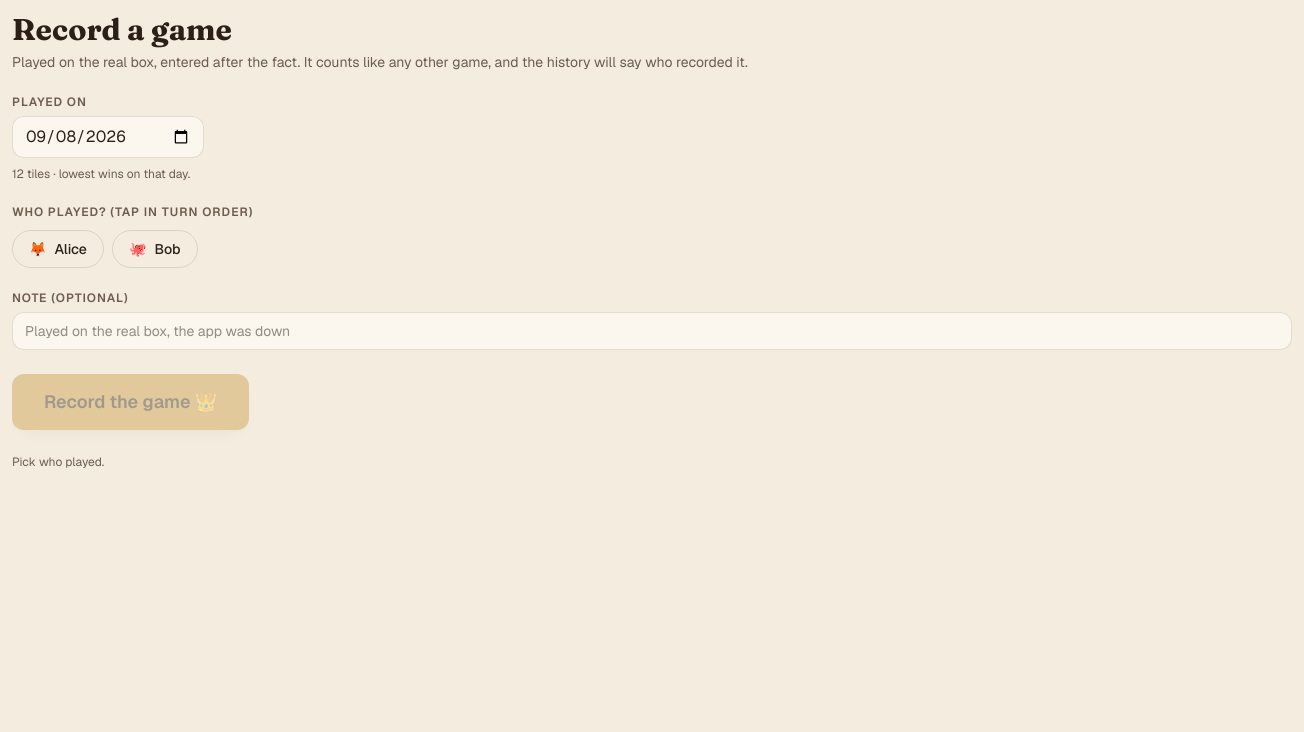
Scenario: RecordGameForm › refuses a score the board cannot produce
Click the button "🦊 Alice" at (58, 249), box [12, 230, 104, 268]
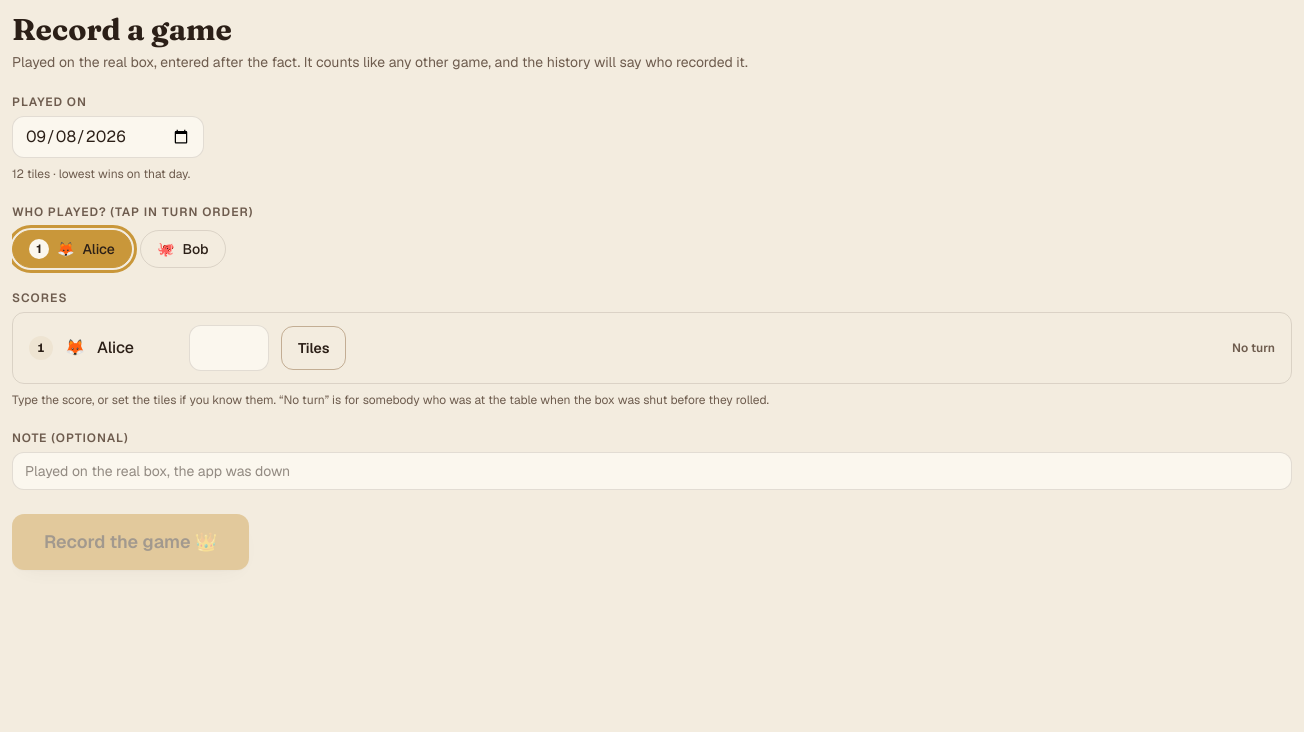
Type "79" into the number field named "Score for Alice" at (229, 348), box [189, 325, 269, 371]
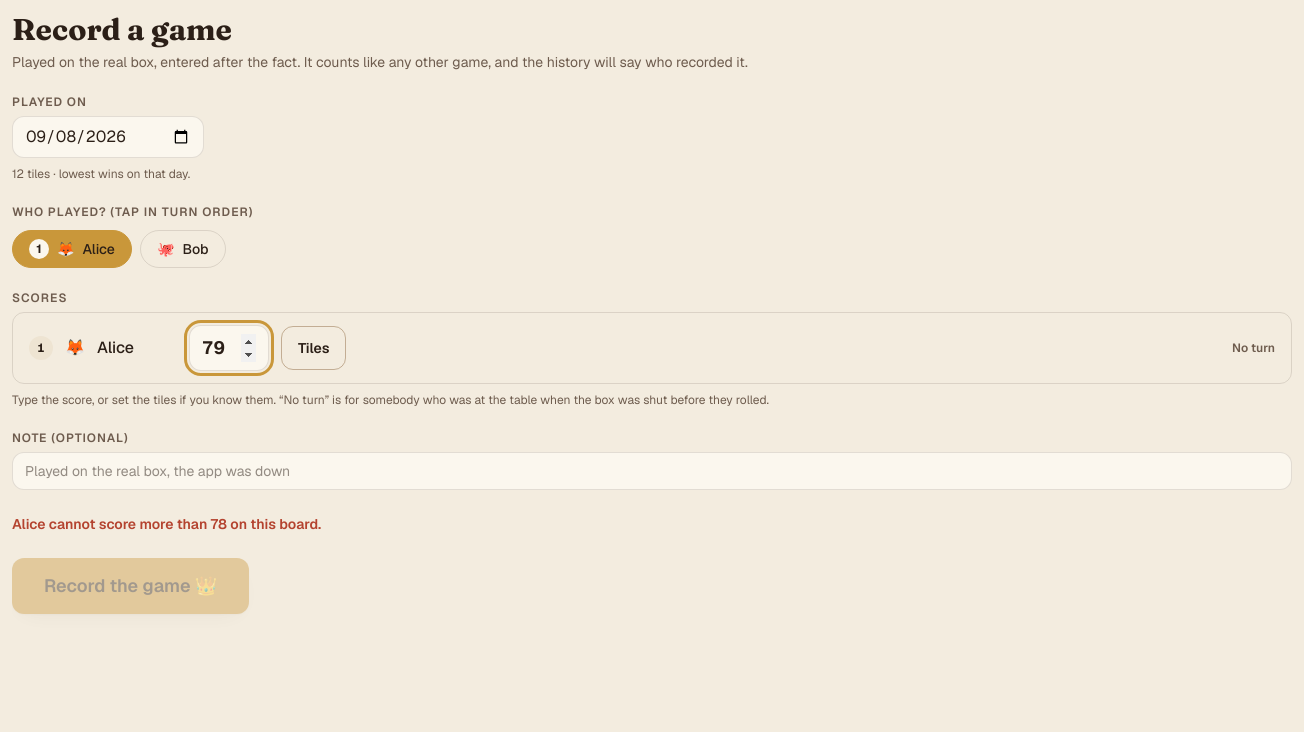
Check: the button "Record the game 👑" is disabled, box [12, 558, 249, 614]
Check: the message shows "78", box [12, 515, 321, 533]
